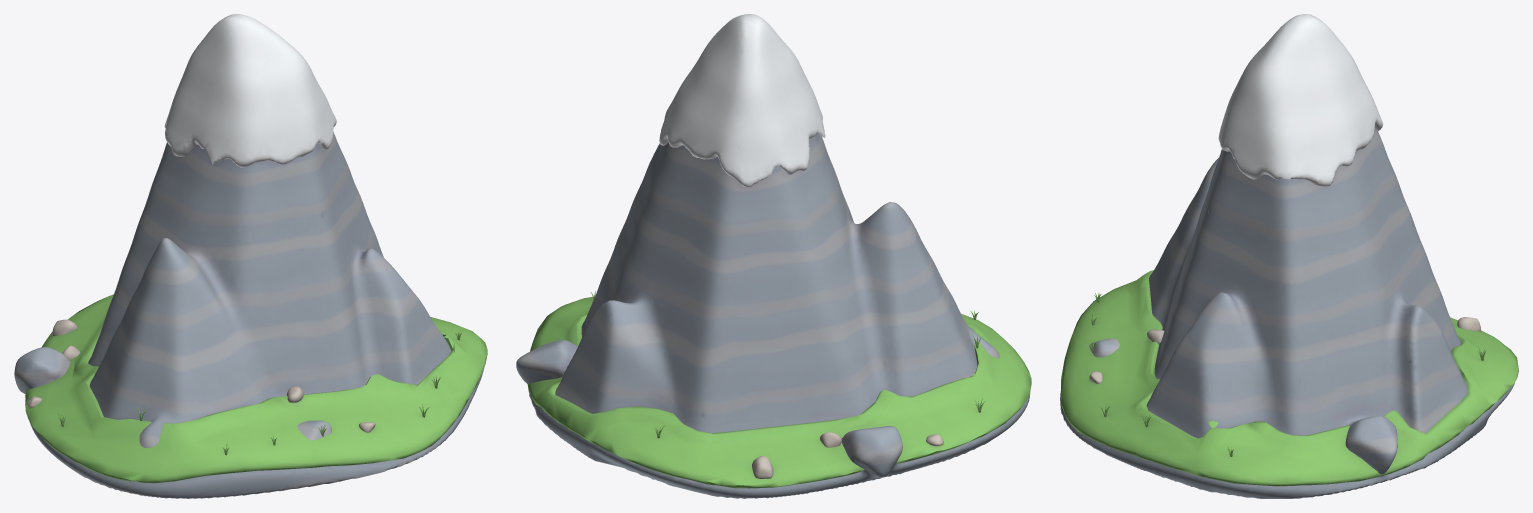
The model's file is mountain-peak.glb.
3 renders of one model, left to right at view 1: azimuth 30°, elevation 25°; view 2: azimuth 150°, elevation 25°; view 3: azimuth 270°, elevation 25°, orthographic. The views are drawn at different scales.
Parts seen in each view (by area): view 1: mountain-peak_body; view 2: mountain-peak_body; view 3: mountain-peak_body.
Part boxes in pixels (left/top/right/bottom): mountain-peak_body: left=14, top=14, right=487, bottom=498; mountain-peak_body: left=516, top=14, right=1031, bottom=498; mountain-peak_body: left=1060, top=14, right=1518, bottom=498.
Bounding box in the file's own units: 9.67 × 8.06 × 8.82.
Materials: 1 (1 with a texture image).
